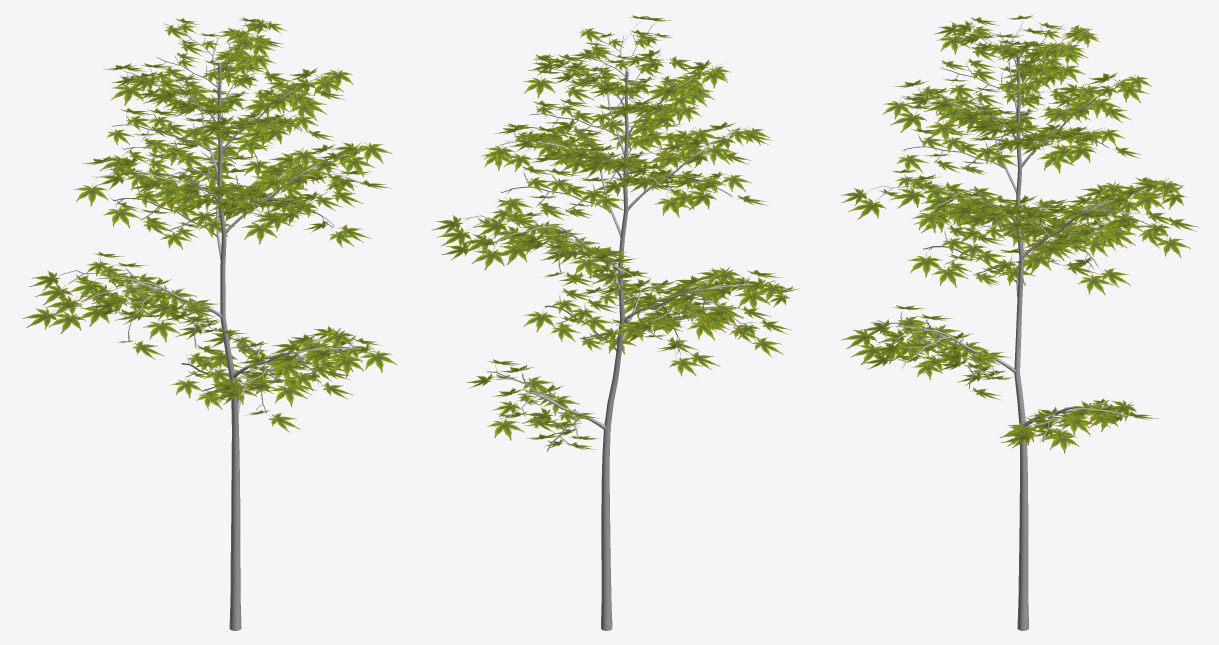
The picture shows the model from 3 angles, left to right: view 1: azimuth 30°, elevation 25°; view 2: azimuth 150°, elevation 25°; view 3: azimuth 270°, elevation 25°; orthographic projection. The views are drawn at different scales.
Visible parts, largest first — view 1: WGJ_Maple04_01.Shape; view 2: WGJ_Maple04_01.Shape; view 3: WGJ_Maple04_01.Shape.
Part boxes in pixels (x1,y1,x2,y2): WGJ_Maple04_01.Shape: [22, 17, 396, 630]; WGJ_Maple04_01.Shape: [431, 15, 798, 630]; WGJ_Maple04_01.Shape: [841, 15, 1198, 630].
Size of the model in its own units: 0.9763 by 1.64 by 0.9208.
Materials: 3 (1 with a texture image).
